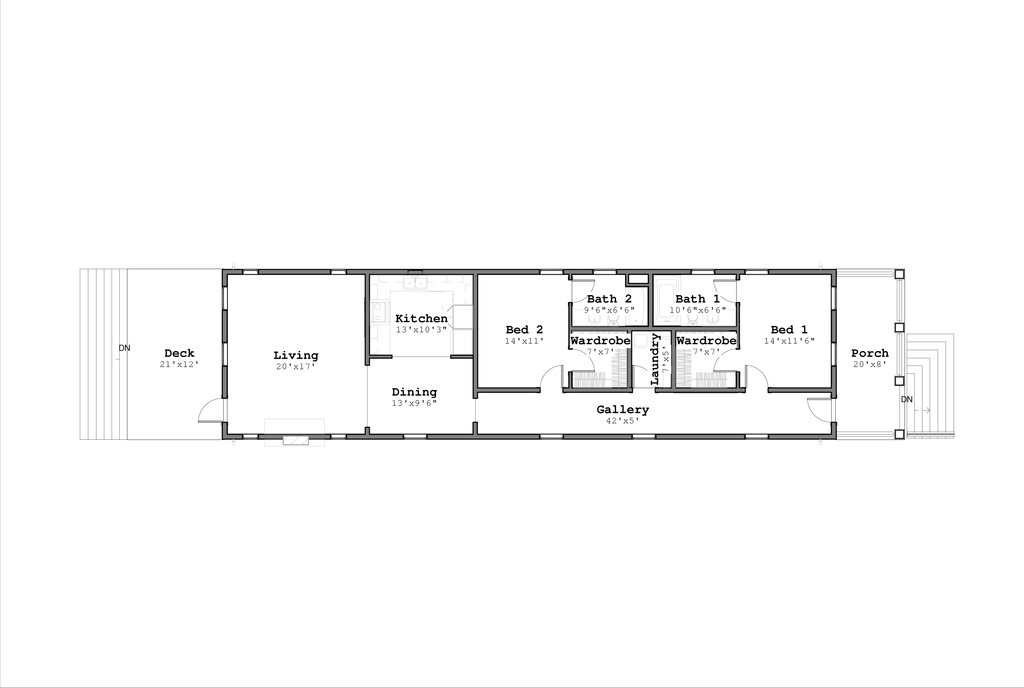door: (194, 394, 237, 424), (626, 357, 662, 391), (567, 275, 600, 306), (810, 391, 844, 420), (535, 364, 569, 391), (705, 276, 740, 302), (567, 347, 600, 374), (743, 362, 772, 392), (710, 347, 741, 373)
twin_sink: (392, 268, 440, 296)
window: (397, 429, 430, 444), (747, 427, 774, 445), (539, 427, 571, 441), (624, 429, 660, 441)
